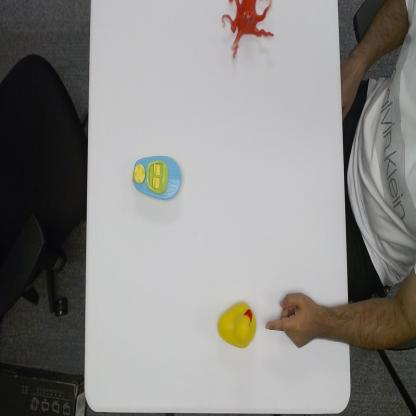Boat: (130, 154, 183, 202)
Duck: (216, 298, 258, 352)
Hand: (264, 289, 325, 352)
Octopus: (220, 0, 275, 61)
